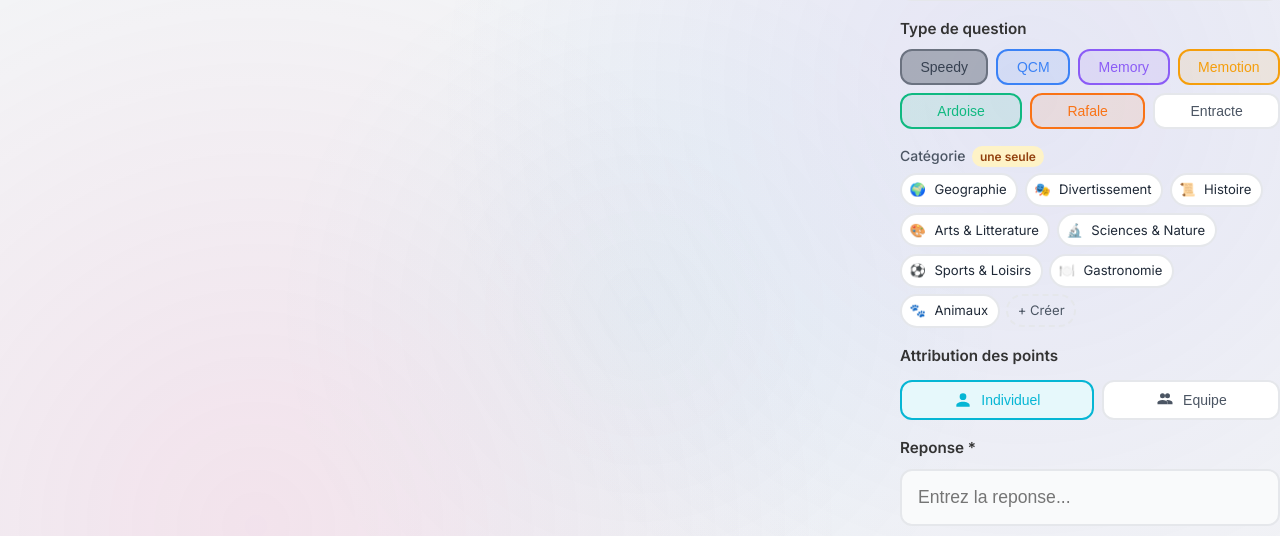
Test: QuestionsPage — Bouton + catégorie (#97) › une erreur 400 (nom invalide) affiche le message d'erreur attendu
This screenshot has width=1280, height=536.
(page scrolled)
Click the button titled "Créer une catégorie" at (1041, 311), box [1006,294,1076,328]
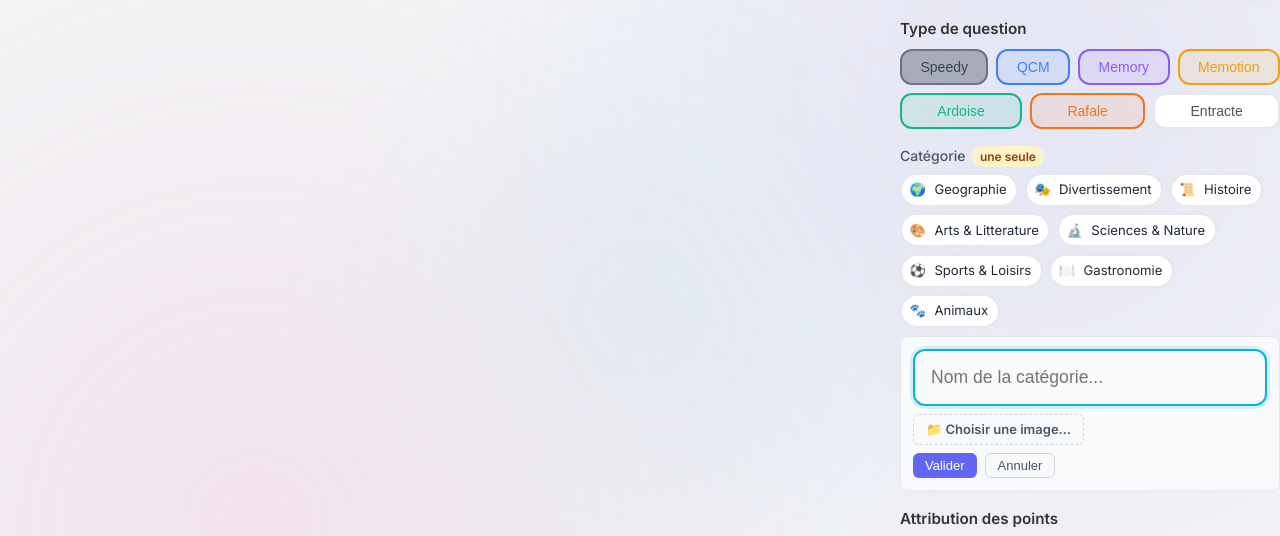
Click the button with class "add-category-validate" at (945, 465), box [913,453,976,478]
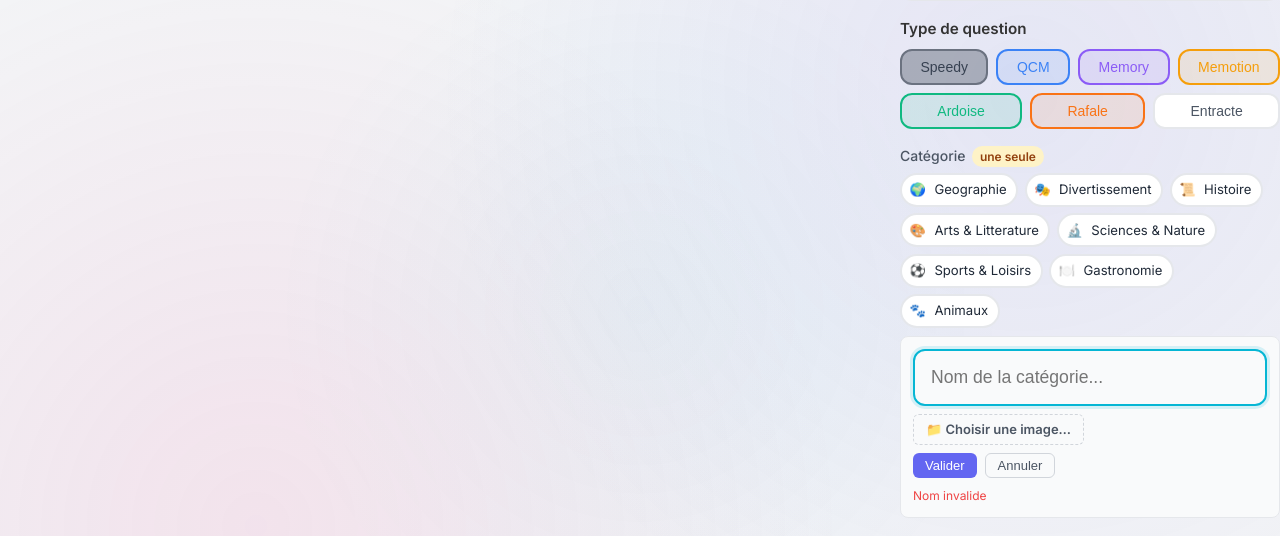
Expected: the text with class "add-category-error" reads "Nom invalide", [913,488,986,503]
